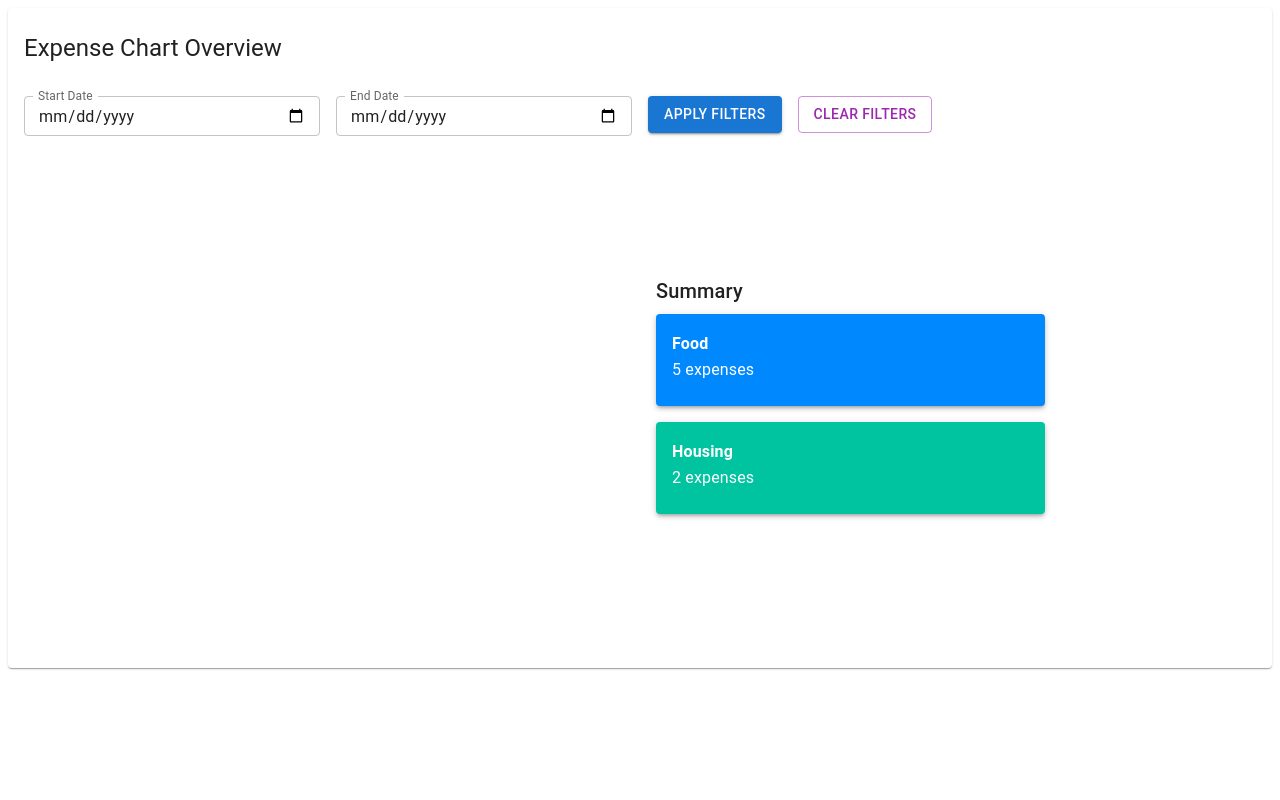
Test case: ChartOverview Component › clears the filters correctly
The width and height of the screenshot is (1280, 800).
Note: Set filter values
Type "2024-01-01" into the date field labelled "Start Date".
click(172, 116); type("2024-01-01")  # box [24,96,320,136]
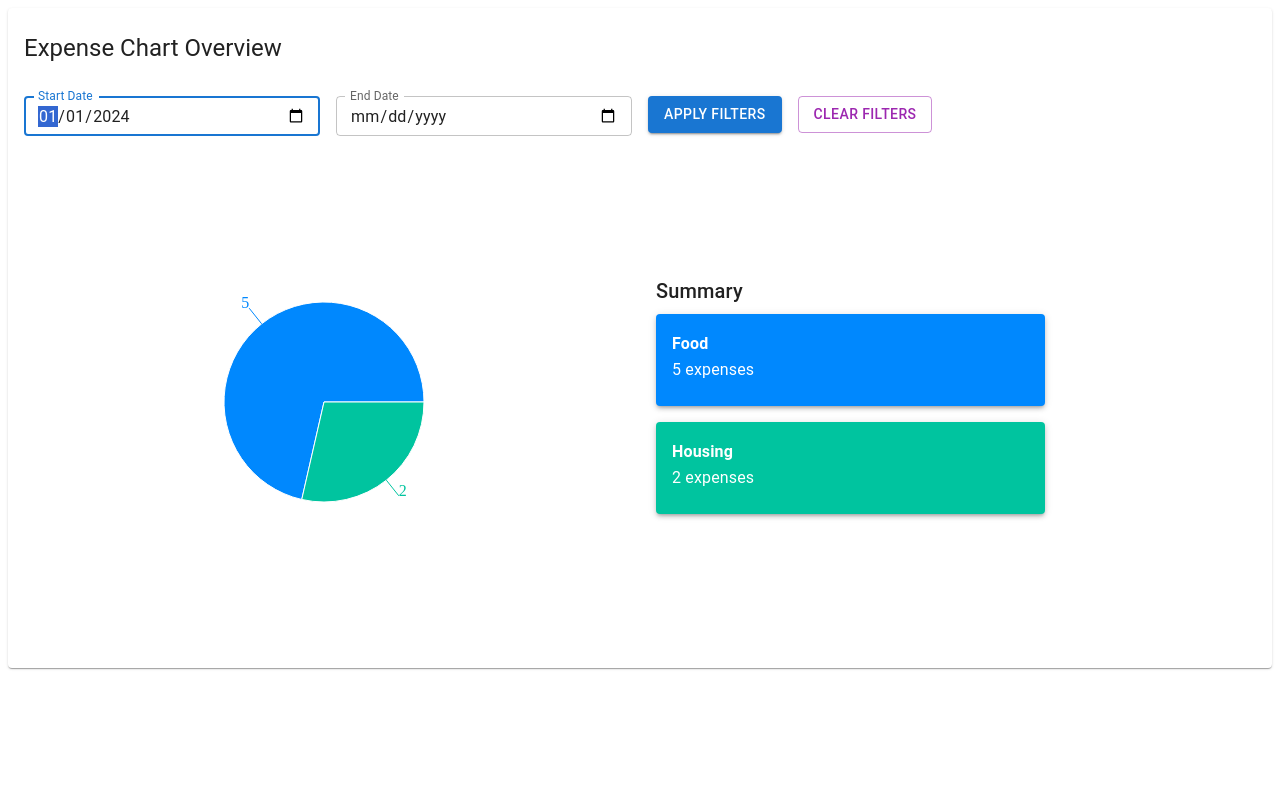
Type "2024-12-31" into the date field labelled "End Date".
click(484, 116); type("2024-12-31")  # box [336,96,632,136]
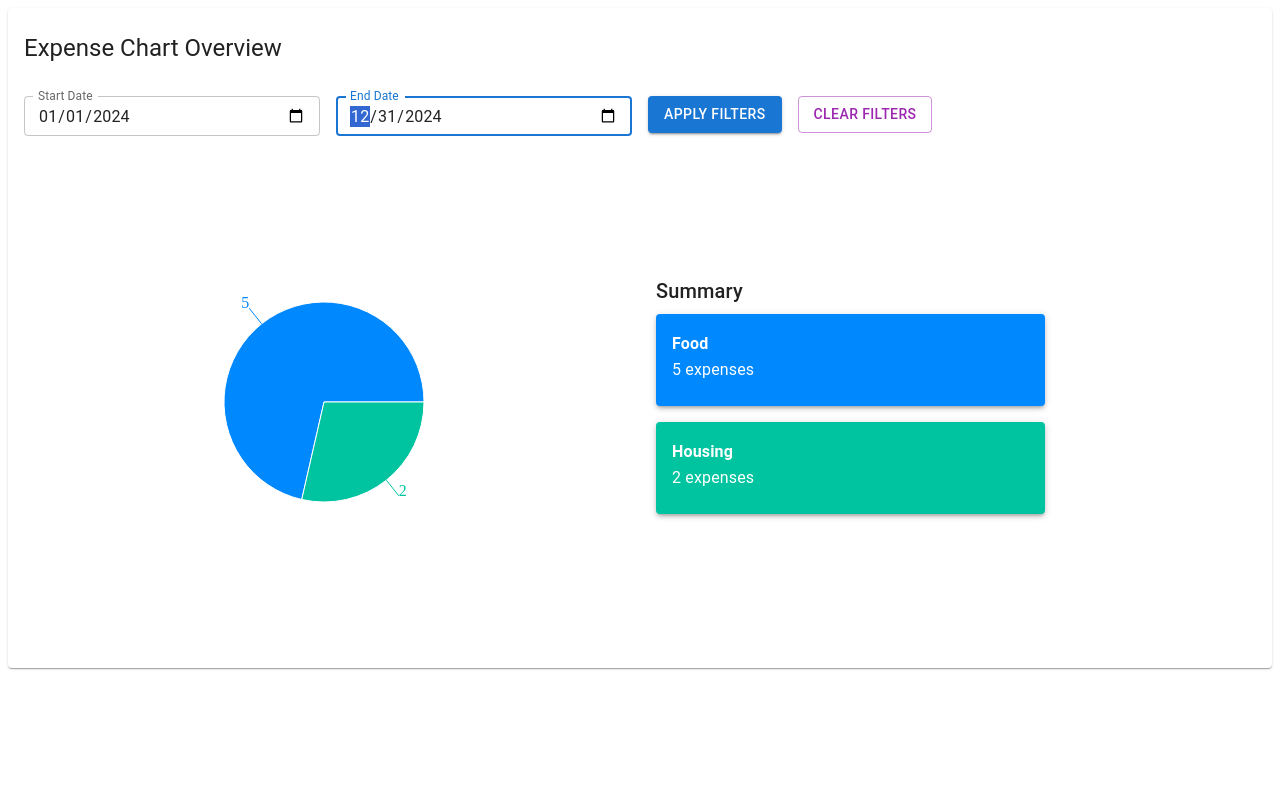
Note: Click Clear Filters
Click the button "Clear Filters".
click(865, 114)  # box [798,96,932,132]
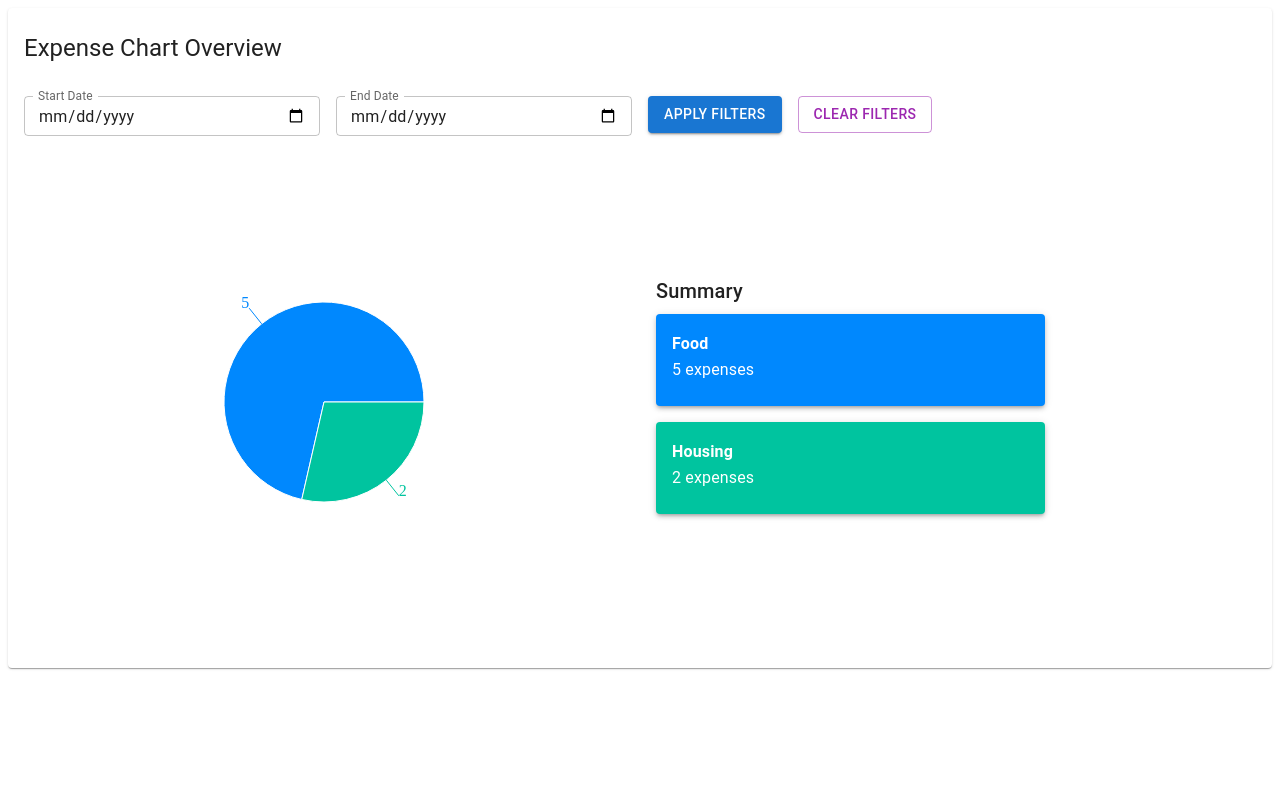
Now the date field labelled "Start Date" is empty, box [24,96,320,136]
Now the date field labelled "End Date" is empty, box [336,96,632,136]
